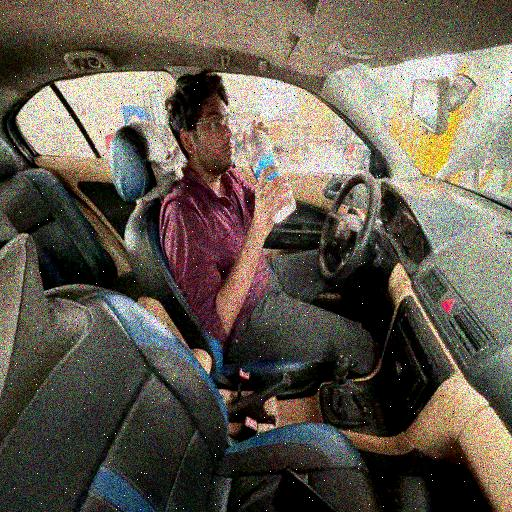Drinking: (159, 68, 302, 334)
